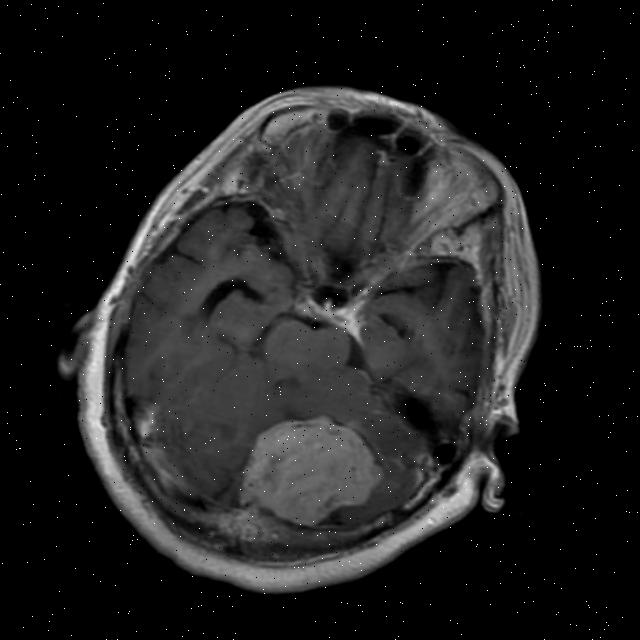Meningioma: (225, 394, 404, 544)
